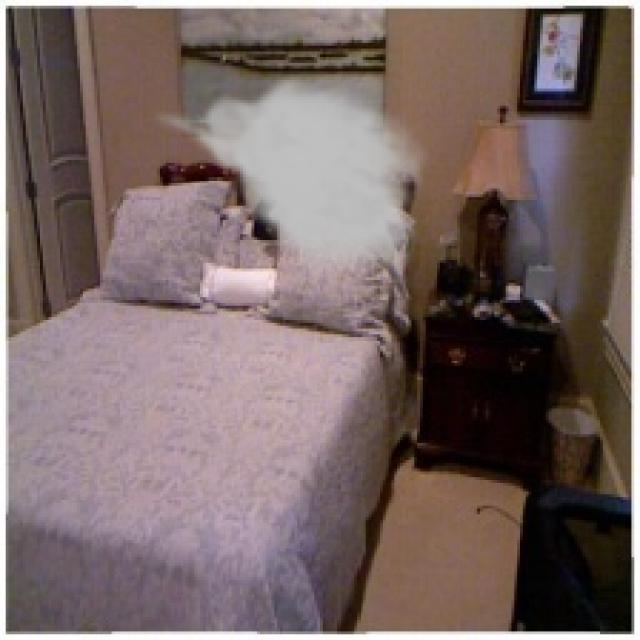smoke: (148, 68, 428, 286)
